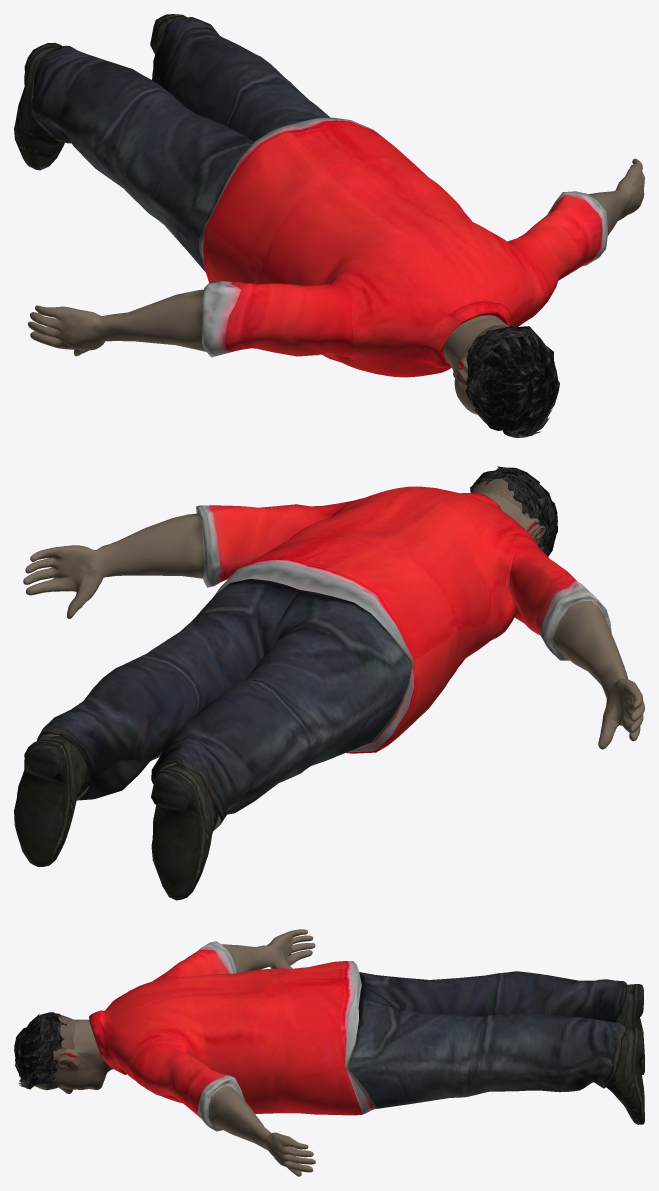
File: Faustovski.obj
The picture shows the model from 3 angles, top to bottom: view 1: azimuth 30°, elevation 25°; view 2: azimuth 150°, elevation 25°; view 3: azimuth 270°, elevation 25°; orthographic projection. The views are drawn at different scales.
Parts seen in each view (by area): view 1: Object.3, Object.1, Object.2; view 2: Object.3, Object.1, Object.2; view 3: Object.3, Object.1, Object.2.
Part boxes in pixels (x1,y1,x2,y2): Object.3: (14, 14, 644, 377); Object.1: (463, 325, 559, 437); Object.2: (453, 325, 510, 422); Object.3: (14, 486, 644, 900); Object.1: (470, 466, 557, 556); Object.2: (471, 478, 545, 544); Object.3: (59, 929, 644, 1176); Object.1: (14, 1012, 66, 1089); Object.2: (17, 1016, 112, 1093).
Size of the model in its own units: 61.01 by 17.42 by 74.44.
3 materials, 3 textured.
